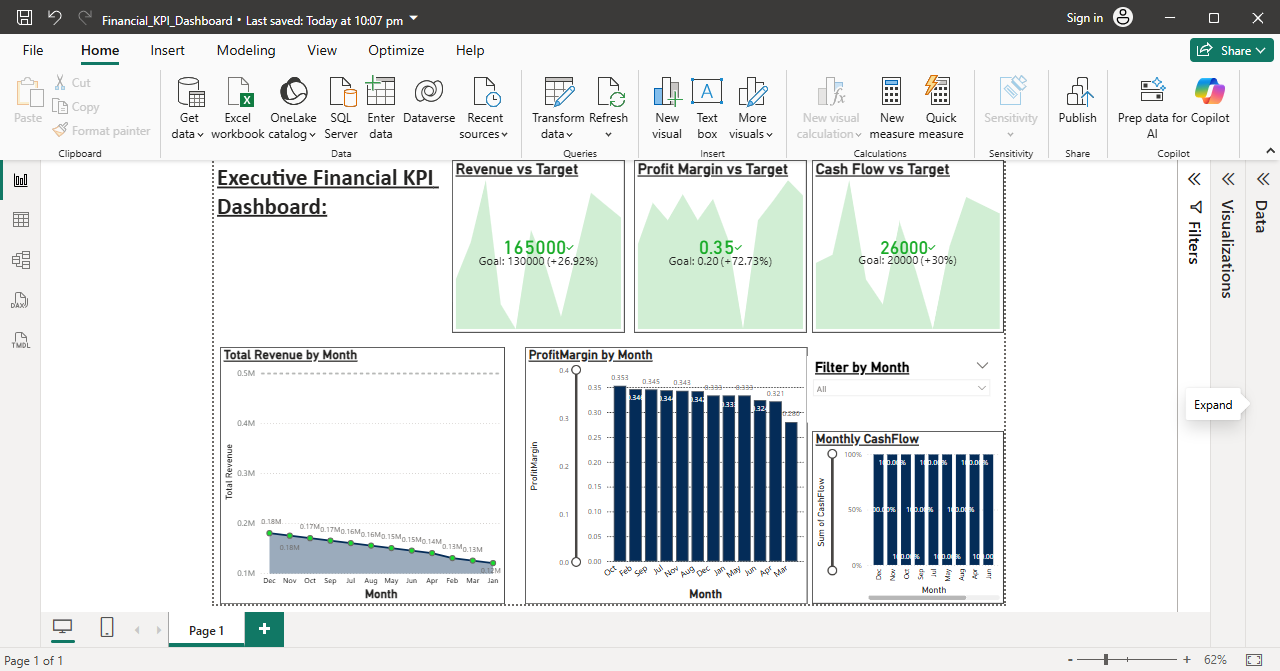

This screenshot's page, from the dashboard's own definition file:
{"tool":"powerbi","page":{"name":"Page 1","canvas":[1280,720],"ordinal":0},"visuals":[{"type":"kpi","title":"Revenue vs Target","fields":{"TrendLine":["Sheet1.Month"],"Indicator":["Sheet1.Total Revenue"],"Goal":["Sheet1.RevenueTarget"]},"box":[386.3,0,280.2,280.2],"z":0},{"type":"kpi","title":"Profit Margin vs Target","fields":{"Indicator":["Sheet1.ProfitMargin"],"TrendLine":["Sheet1.Month"],"Goal":["Sheet1.ProfitMarginTarget"]},"box":[681.7,0,280.2,280.2],"z":1000},{"type":"kpi","title":"Cash Flow vs Target","fields":{"Indicator":["Sum(Sheet1.CashFlow)"],"TrendLine":["Sheet1.Month"],"Goal":["Sheet1.CashFlowTarget"]},"box":[969.5,0,310.5,280.2],"z":2000},{"type":"lineChart","fields":{"Category":["Sheet1.Month"],"Y":["Sheet1.Total Revenue"]},"box":[9.5,303,462,416.6],"z":3000},{"type":"clusteredColumnChart","fields":{"Category":["Sheet1.Month"],"Y":["Sheet1.ProfitMargin"]},"box":[503.7,303,458.2,416.6],"z":4000},{"type":"hundredPercentStackedColumnChart","title":"Monthly CashFlow","fields":{"Category":["Sheet1.Month"],"Y":["Sum(Sheet1.CashFlow)"]},"box":[969.5,439.3,310.5,280.2],"z":5000},{"type":"slicer","fields":{"Values":["Sheet1.Month"]},"box":[961.9,318.1,306.7,107.9],"z":6000},{"type":"textbox","box":[0,0,386.3,229.1],"z":7000}]}

Visuals, with their boxes on the page's 1280x720 design canvas (x1, y1, x2, y2). These are canvas units, not pixel positions in the 1280x671 screenshot, which may show the page scaled, cropped or inside an application window:
"Revenue vs Target" kpi: 386 0 666 280
"Profit Margin vs Target" kpi: 682 0 962 280
"Cash Flow vs Target" kpi: 970 0 1280 280
lineChart - Sheet1.Month x Sheet1.Total Revenue: 10 303 472 720
clusteredColumnChart - Sheet1.Month x Sheet1.ProfitMargin: 504 303 962 720
"Monthly CashFlow" hundredPercentStackedColumnChart: 970 439 1280 720
slicer - Sheet1.Month: 962 318 1269 426
textbox: 0 0 386 229
